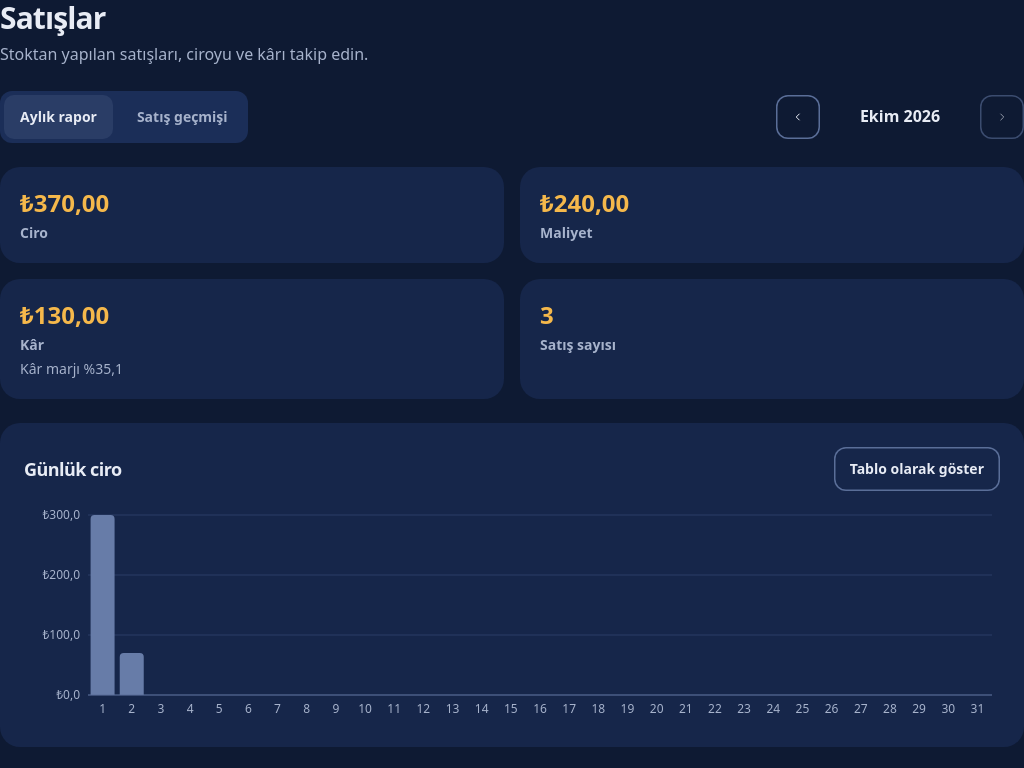
Scenario: SalesReportPage › grafiği tabloya çevirir
Click the button "Tablo olarak göster".
click(917, 469)  # box [834,447,1000,491]
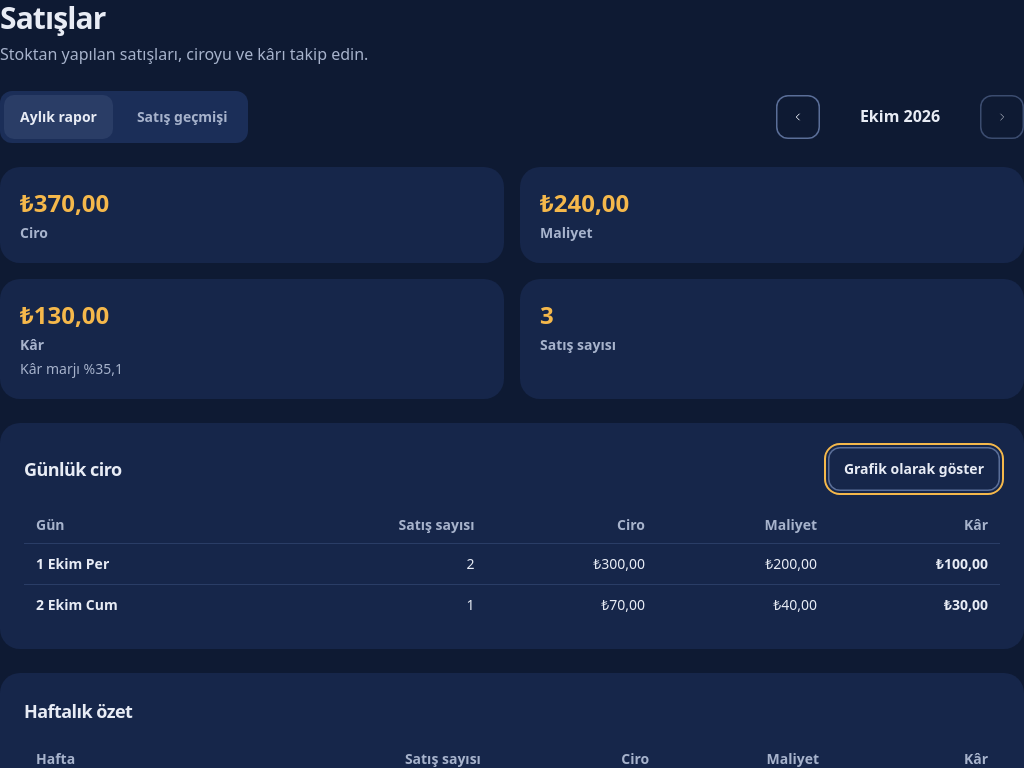
Now the button "Grafik olarak göster" is expanded, box [828,447,1000,491]
